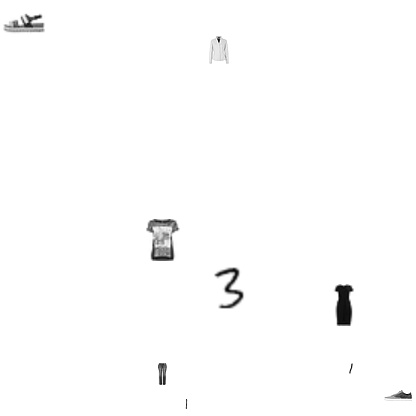1: (344, 361, 358, 375), (179, 397, 193, 411)
3: (203, 258, 259, 314)
Dress: (322, 284, 364, 326)
Sandal: (3, 2, 45, 44)
Shirt: (205, 36, 233, 64)
Sneaker: (384, 381, 412, 409)
T-shirt/top: (142, 219, 184, 261)
Trouser: (151, 363, 173, 385)
